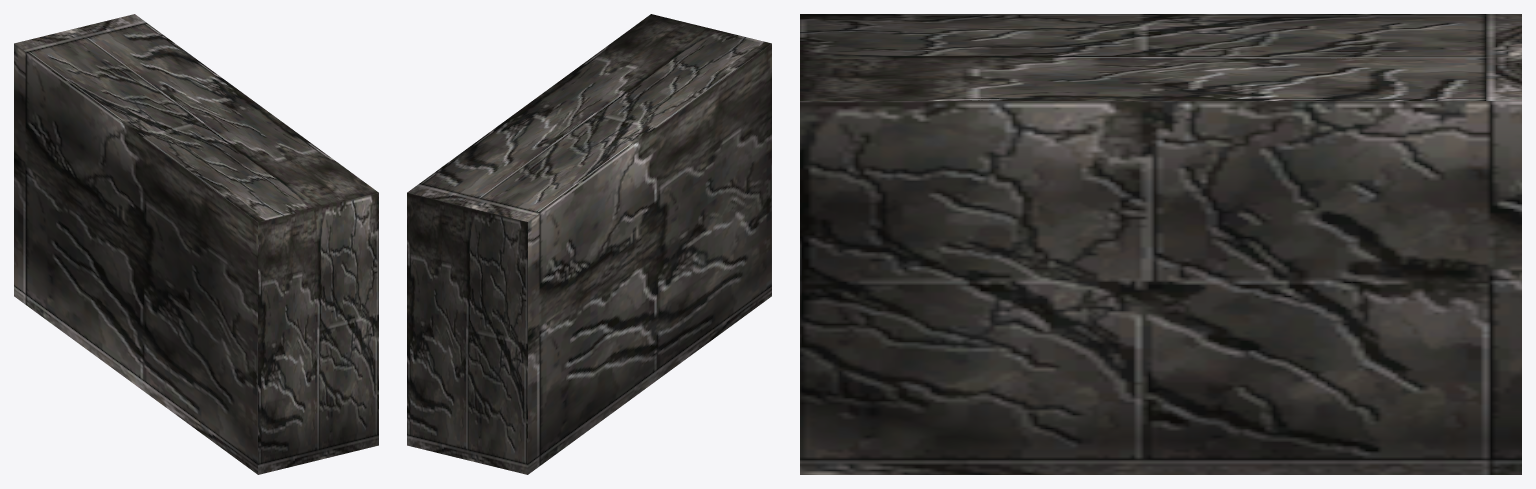
File: INST_SM_DEBRIS_BLOCK_LARGEA.fbx
3 renders of one model, left to right at view 1: azimuth 30°, elevation 25°; view 2: azimuth 150°, elevation 25°; view 3: azimuth 270°, elevation 25°, orthographic. The views are drawn at different scales.
Visible parts, largest first — view 1: INST_SM_DEBRIS_BLOCK_LARGEA; view 2: INST_SM_DEBRIS_BLOCK_LARGEA; view 3: INST_SM_DEBRIS_BLOCK_LARGEA.
Part boxes in pixels (left/top/right/bottom): INST_SM_DEBRIS_BLOCK_LARGEA: left=14, top=14, right=378, bottom=474; INST_SM_DEBRIS_BLOCK_LARGEA: left=407, top=14, right=771, bottom=474; INST_SM_DEBRIS_BLOCK_LARGEA: left=800, top=14, right=1521, bottom=474.
Size of the model in its own units: 20000 by 40000 by 70000.
Materials: 1 (1 with a texture image).
